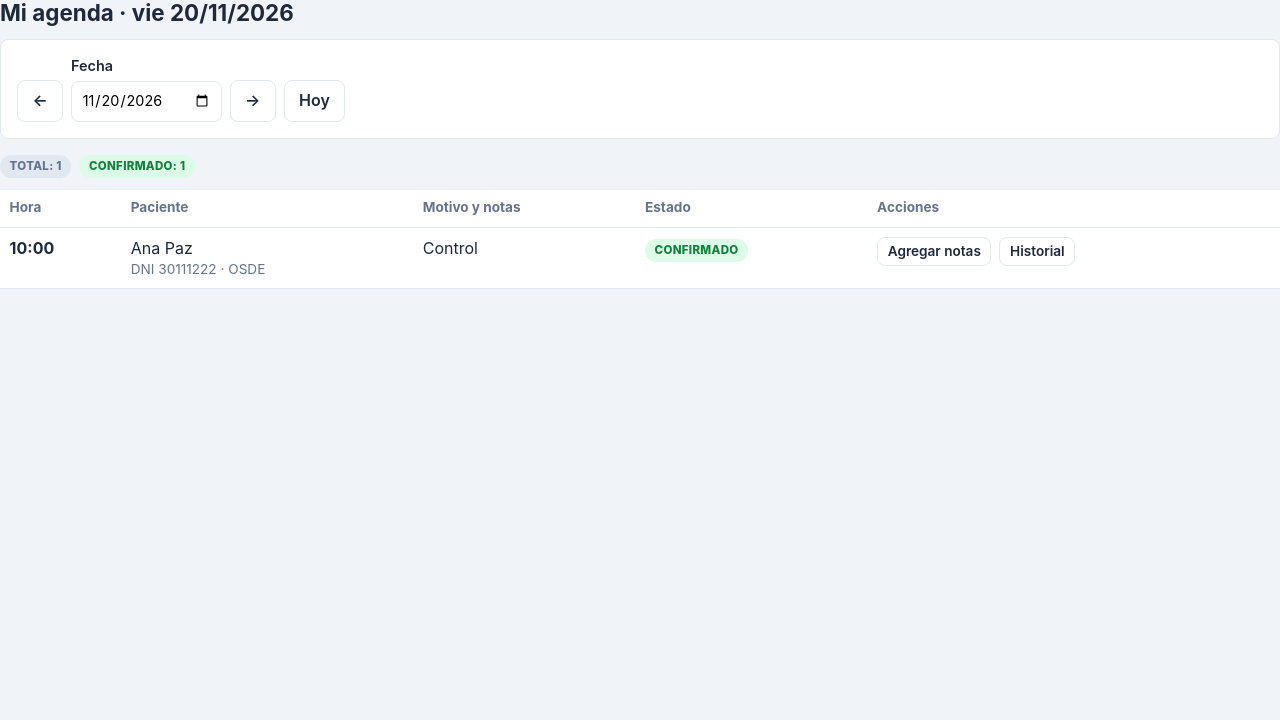
Agenda del médico › guarda las notas de un turno y vuelve a cargar la agenda
This screenshot has width=1280, height=720.
Click the button with aria-label "Notas del turno de Ana Paz a las 10:00" at (934, 252), box x1=877 y1=237 x2=992 y2=266
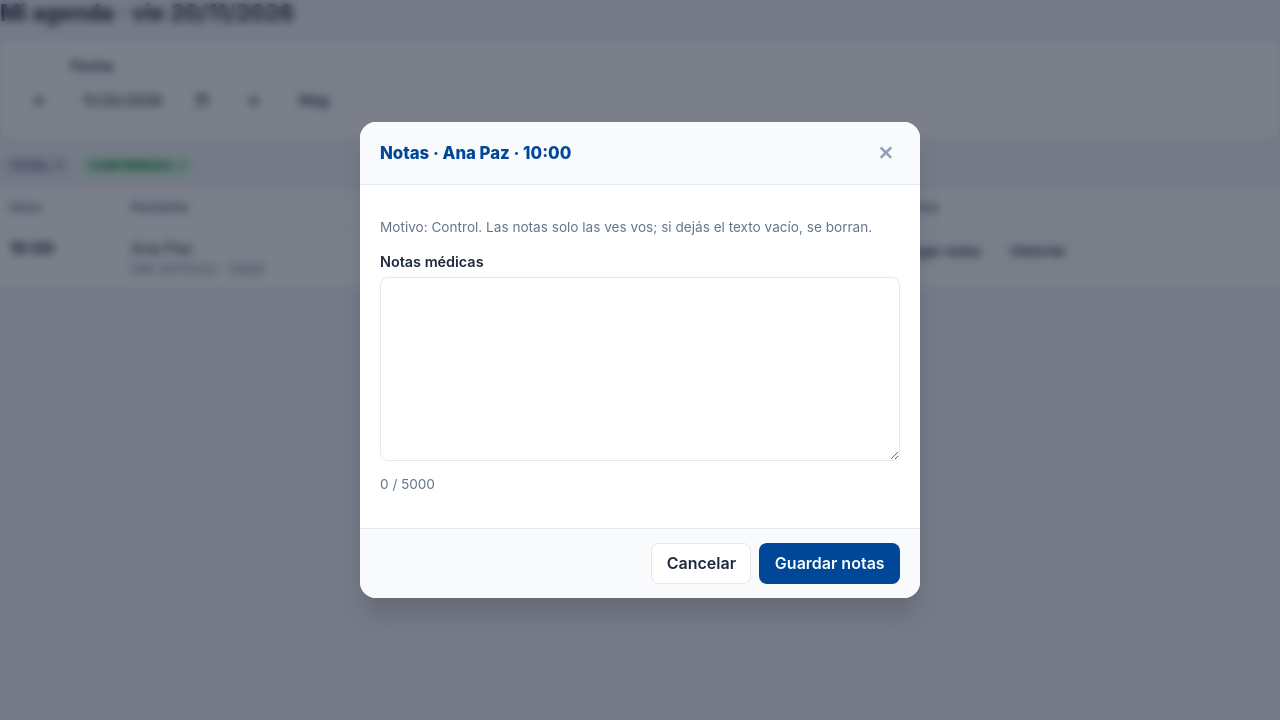
Type "Presión normal." into the text box labelled "Notas médicas" at (640, 369), box x1=380 y1=276 x2=900 y2=461
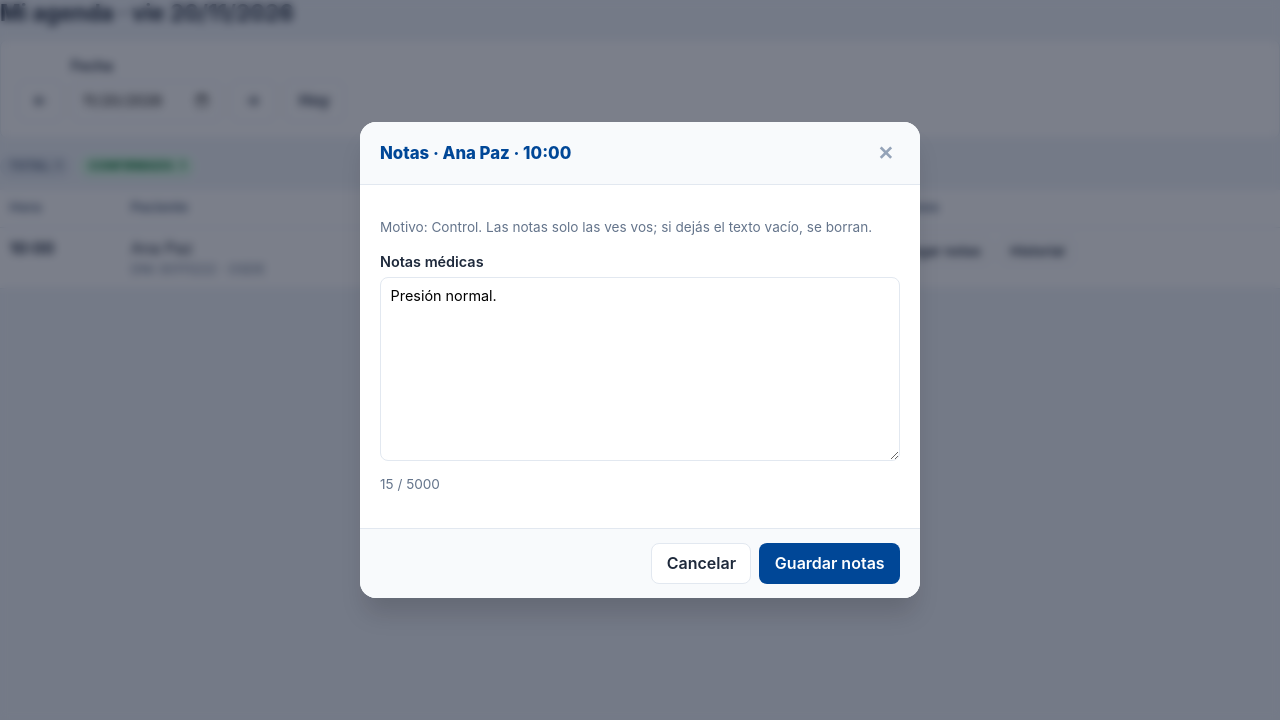
Click the button "Guardar notas" at (830, 564), box x1=760 y1=543 x2=900 y2=584
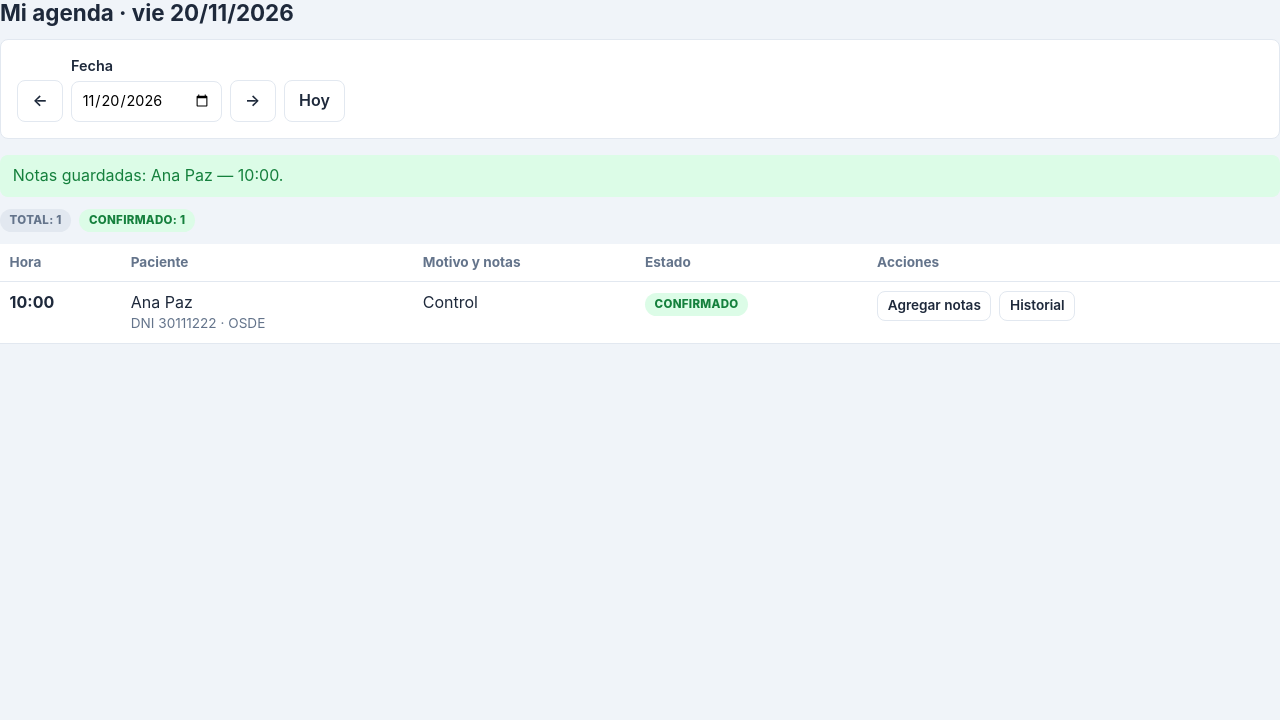
Check: the text "Notas guardadas: Ana Paz — 10:00." is shown, box x1=0 y1=155 x2=1279 y2=197
